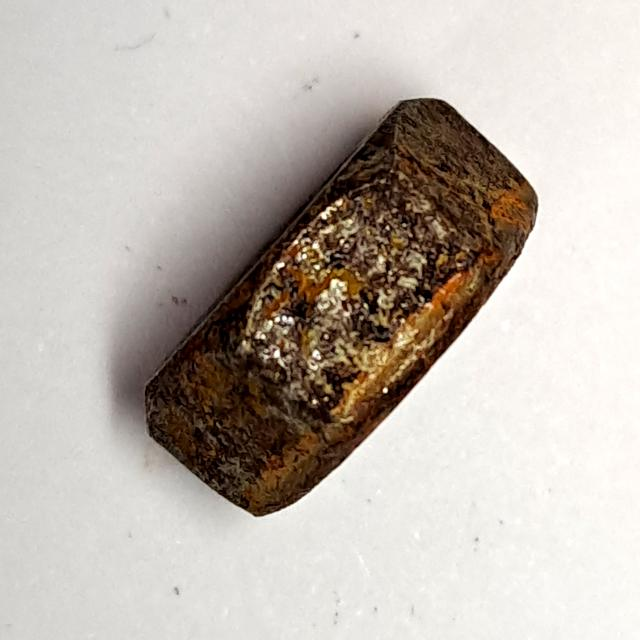Side_Rust: (128, 85, 550, 526)
